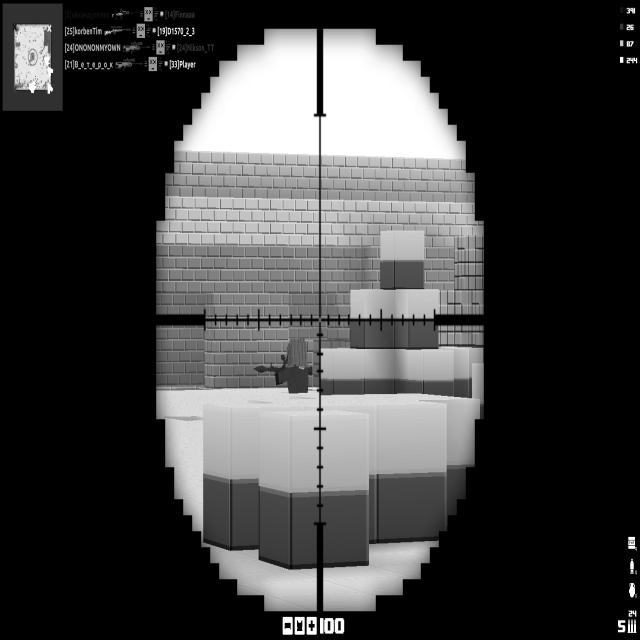Head: (286, 338, 308, 369)
Player: (274, 336, 310, 394)
